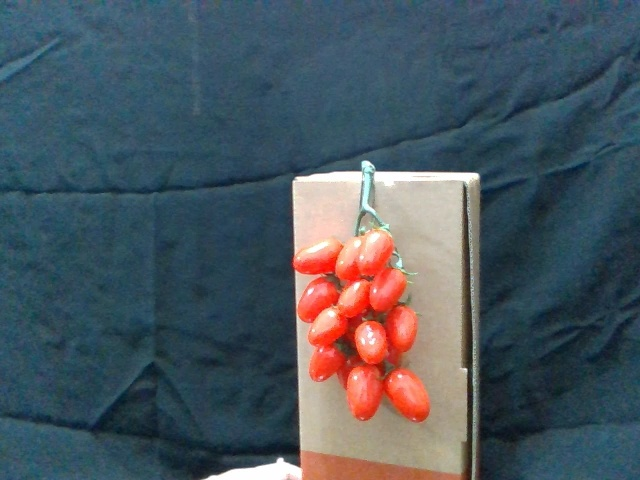tomato: (383, 369, 434, 423), (345, 365, 384, 424), (353, 320, 395, 370), (298, 278, 339, 325), (292, 239, 344, 276), (360, 228, 397, 276), (369, 268, 410, 311), (387, 303, 421, 354), (311, 307, 351, 350), (337, 279, 376, 322), (308, 344, 347, 384), (338, 237, 368, 281)
